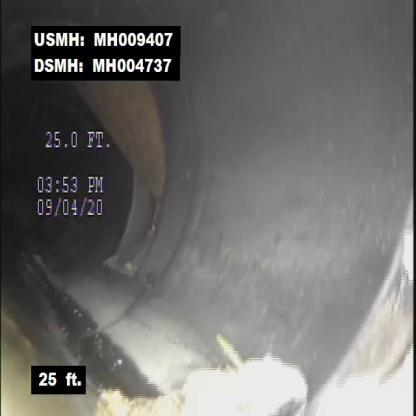hole: (110, 81, 178, 222)
